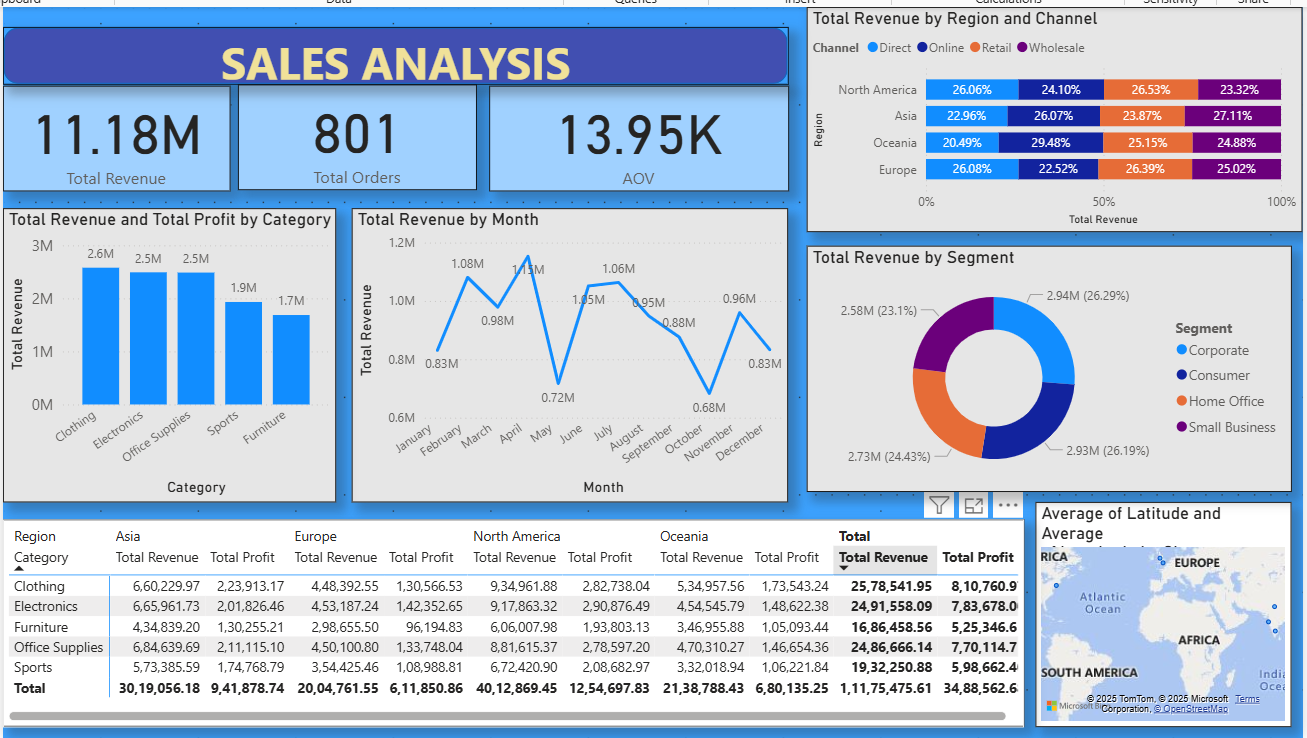

Layout of this report page (visuals, bound fields, positions):
{"tool":"powerbi","page":{"name":"Page 1","canvas":[1280,720],"ordinal":0},"visuals":[{"type":"card","fields":{"Values":["DataDictionary.Total Revenue"]},"box":[0,77.9,224,104.3],"z":0},{"type":"card","fields":{"Values":["DataDictionary.Total Orders"]},"box":[231,76.5,235.1,104.3],"z":1000},{"type":"card","fields":{"Values":["DataDictionary.AOV"]},"box":[478.6,77.9,295,104.3],"z":2000},{"type":"lineChart","fields":{"Category":["DimDate.YearMonth.Variation.Date Hierarchy.Month"],"Y":["DataDictionary.Total Revenue"]},"box":[343.7,197.6,429.9,289.4],"z":3000},{"type":"clusteredColumnChart","fields":{"Category":["DimProduct.Category"],"Y":["DataDictionary.Total Revenue"]},"box":[0,197.6,328.3,289.4],"z":4000},{"type":"hundredPercentStackedBarChart","fields":{"Category":["DimGeo.Region"],"Series":["FactSales.Channel"],"Y":["DataDictionary.Total Revenue"]},"box":[791.7,0,488.3,221.2],"z":5000},{"type":"map","fields":{"Category":["DimGeo.City"],"Y":["Avg(DimGeo.Latitude)"],"X":["Avg(DimGeo.Longitude)"]},"box":[1016.6,487.4,252.3,221.5],"z":6000},{"type":"pivotTable","fields":{"Rows":["DimProduct.Category"],"Columns":["DimGeo.Region"],"Values":["DataDictionary.Total Revenue","DataDictionary.Total Profit"]},"box":[0,510.8,1005.5,198.2],"z":7000},{"type":"donutChart","fields":{"Category":["DimCustomer.Segment"],"Y":["DataDictionary.Total Revenue"]},"box":[791.7,235.1,477.2,242.1],"z":8000},{"type":"shape","box":[0,19.5,773.6,57],"z":8001}]}

Visuals, with their boxes in screenshot pixels (x1, y1, x2, y2):
card - DataDictionary.Total Revenue: x1=7, y1=82, x2=232, y2=187
card - DataDictionary.Total Orders: x1=239, y1=80, x2=476, y2=185
card - DataDictionary.AOV: x1=489, y1=82, x2=786, y2=187
lineChart - DimDate.YearMonth.Variation.Date Hierarchy.Month x DataDictionary.Total Revenue: x1=353, y1=202, x2=786, y2=494
clusteredColumnChart - DimProduct.Category x DataDictionary.Total Revenue: x1=7, y1=202, x2=337, y2=494
hundredPercentStackedBarChart - DimGeo.Region x FactSales.Channel: x1=804, y1=3, x2=1296, y2=226
map - DimGeo.City x Avg(DimGeo.Latitude): x1=1031, y1=494, x2=1285, y2=717
pivotTable - DimProduct.Category x DimGeo.Region: x1=7, y1=518, x2=1019, y2=717
donutChart - DimCustomer.Segment x DataDictionary.Total Revenue: x1=804, y1=240, x2=1285, y2=484
shape: x1=7, y1=23, x2=786, y2=80
